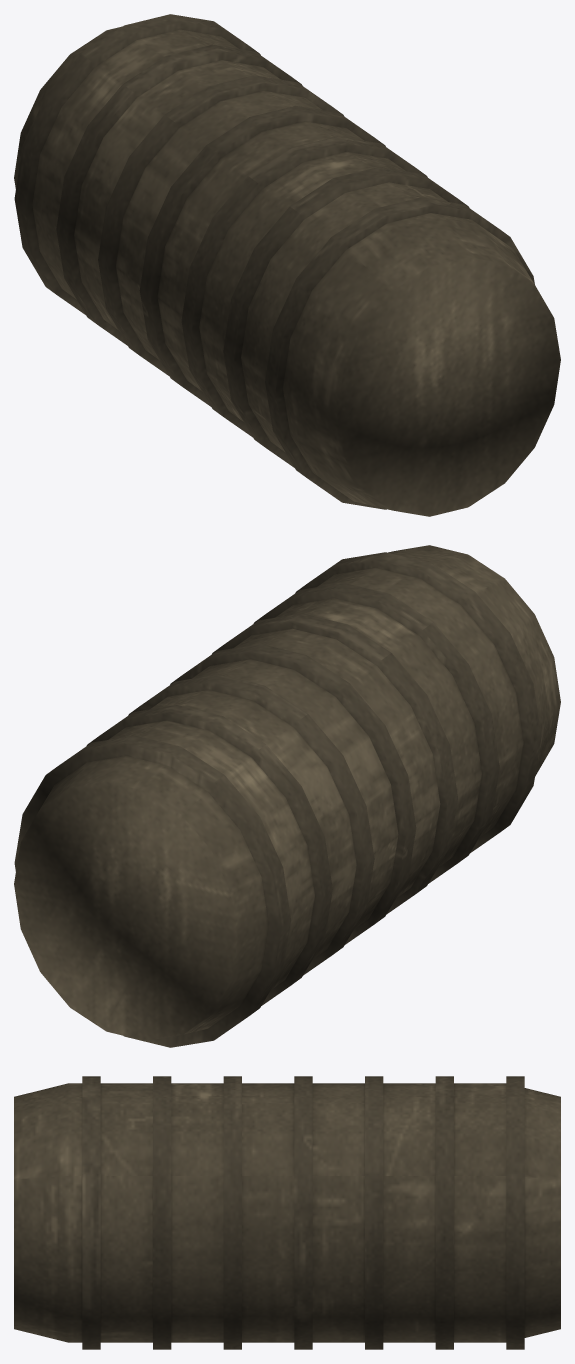
The model's file is br9_pump.glb.
3 renders of one model, top to bottom at view 1: azimuth 30°, elevation 25°; view 2: azimuth 150°, elevation 25°; view 3: azimuth 270°, elevation 25°, orthographic. The views are drawn at different scales.
Visible parts, largest first — view 1: br9_pump; view 2: br9_pump; view 3: br9_pump.
Boxes of the visible parts, box(x1,y1,x2,y2) form: br9_pump: box(14, 14, 560, 516); br9_pump: box(14, 545, 560, 1047); br9_pump: box(14, 1076, 560, 1349).
Bounding box in the file's own units: 0.057 × 0.0601 × 0.12.
1 material, 1 textured.
